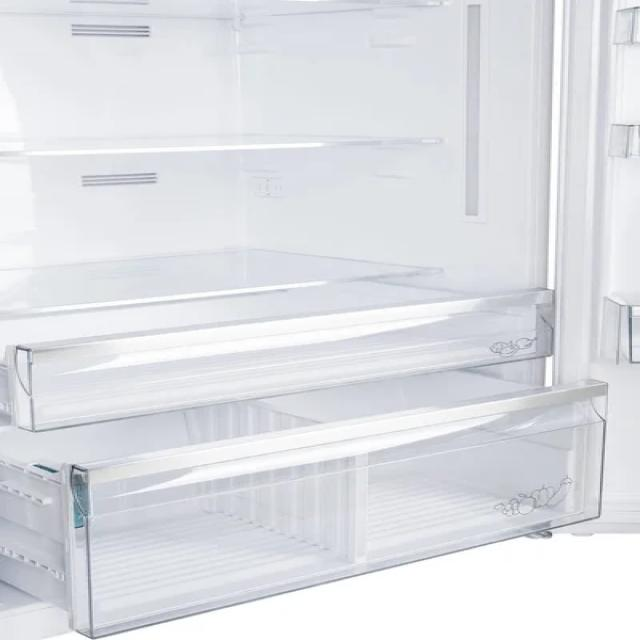fridge-space: (75, 434, 332, 584), (356, 401, 576, 528), (3, 91, 396, 144), (0, 234, 394, 282), (25, 328, 271, 402), (283, 297, 530, 363)
